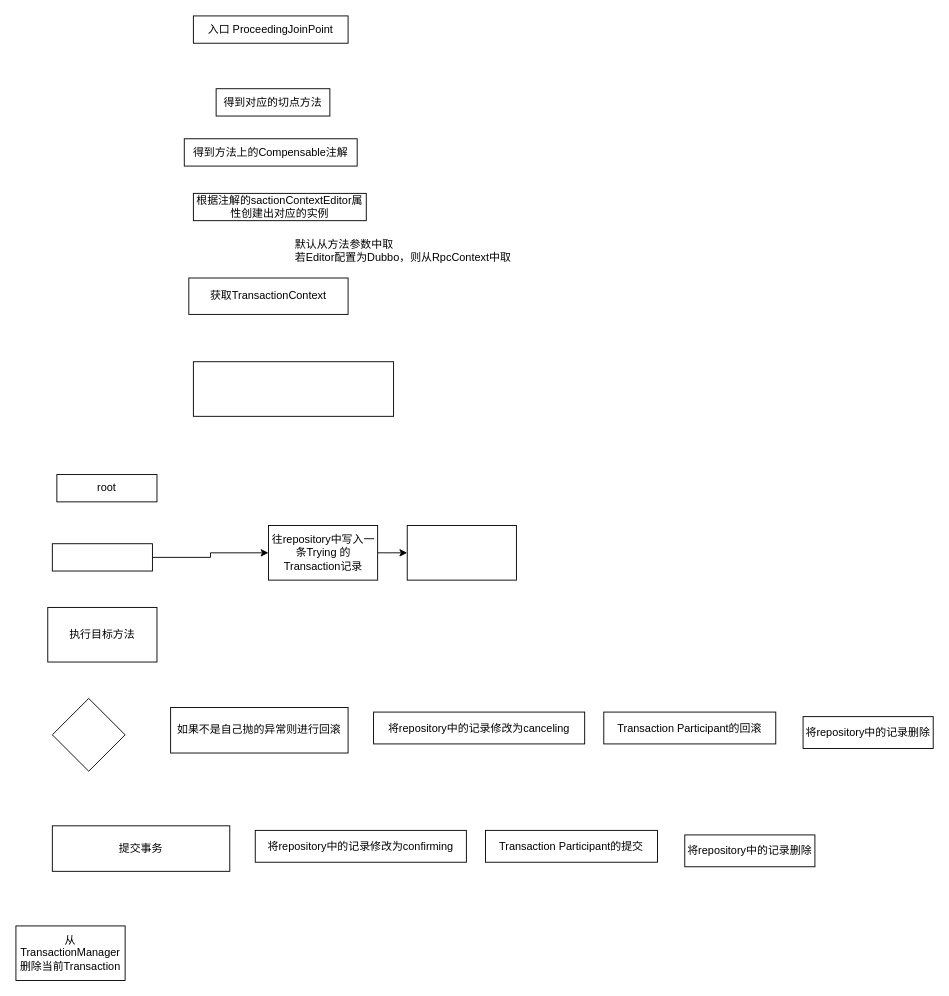
Image size: 949x996. Some labels were removed from this diagram. The shapes that lost their labels are listed below. From the top down, each one's centre as x and y in pixels, then its label:
the point at 293,388: 根据propagation 选择不同的处理方式
the point at 101,557: 开启事务
the point at 461,552: 加入到TransactionManager的current队列中
the point at 88,734: 抛出异常？
